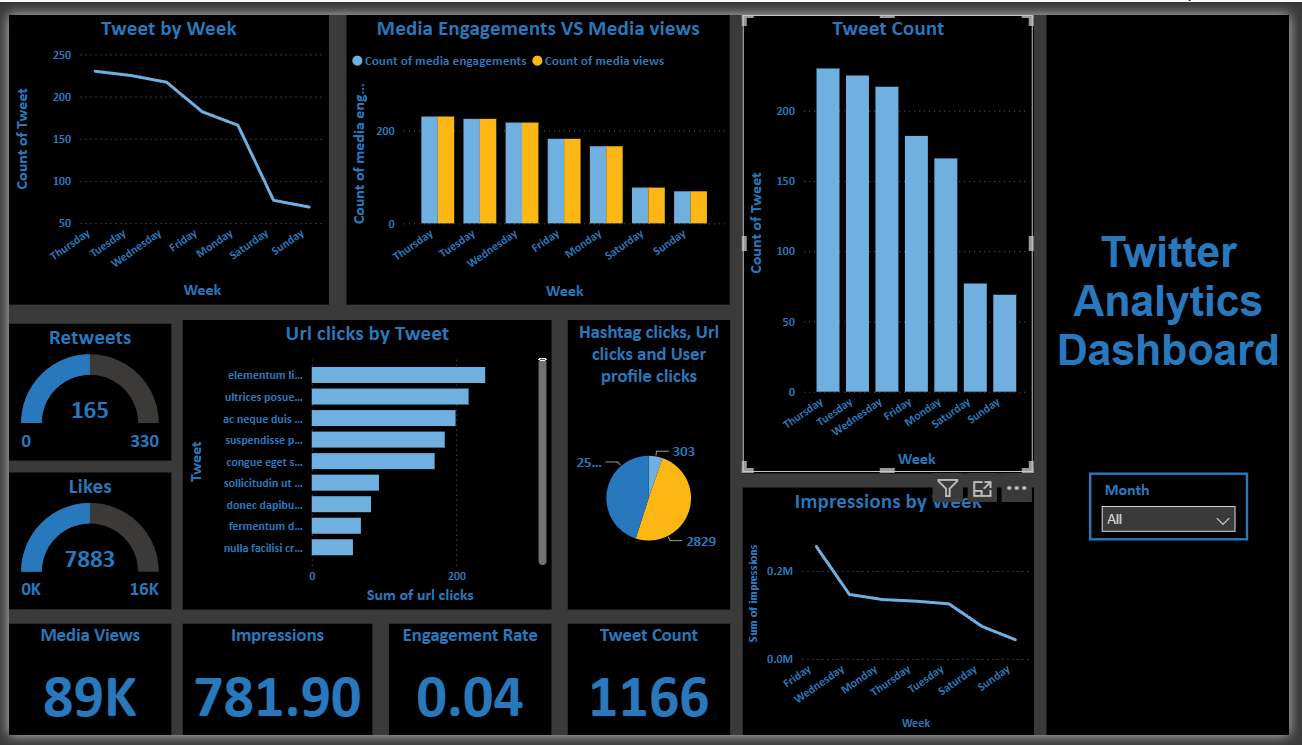

Layout of this report page (visuals, bound fields, positions):
{"tool":"powerbi","page":{"name":"Twitter Analytics Dashbboard","canvas":[1280,720],"ordinal":0},"visuals":[{"type":"textbox","box":[1037.1,0,243.4,720.5],"z":0},{"type":"card","title":"Media Views","fields":{"Values":["Sum(SocialMedia (1).media views)"]},"box":[0,609.2,162.2,111.3],"z":1000},{"type":"card","title":"Impressions","fields":{"Values":["Avg(SocialMedia (1).impressions)"]},"box":[173.4,609.2,189.3,111.3],"z":2000},{"type":"card","title":"Engagement Rate","fields":{"Values":["Avg(SocialMedia (1).engagement rate)"]},"box":[380.2,609.2,162.2,111.3],"z":3000},{"type":"card","title":"Tweet Count","fields":{"Values":["CountNonNull(SocialMedia (1).Tweet)"]},"box":[558.3,609.2,162.2,111.3],"z":4000},{"type":"gauge","title":"Likes","fields":{"Y":["Sum(SocialMedia (1).likes)"]},"box":[0,458.1,162.2,136.8],"z":5000},{"type":"gauge","title":"Retweets","fields":{"Y":["Max(SocialMedia (1).retweets)"]},"box":[0,308.6,162.2,136.8],"z":6000},{"type":"slicer","fields":{"Values":["SocialMedia (1).Month"]},"box":[1080,458.1,159.1,68.4],"z":7000},{"type":"lineChart","title":"Tweet by Week","fields":{"Category":["SocialMedia (1).Week"],"Y":["Count(SocialMedia (1).Tweet)"]},"box":[0,0,319.7,289.5],"z":8000},{"type":"lineChart","title":"Impressions by Week","fields":{"Category":["SocialMedia (1).Week"],"Y":["Sum(SocialMedia (1).impressions)"]},"box":[733.3,472.4,291.1,248.1],"z":9000},{"type":"clusteredBarChart","title":"Url clicks by Tweet","fields":{"Category":["SocialMedia (1).Tweet"],"Y":["Sum(SocialMedia (1).url clicks)"]},"box":[173.4,305.4,369,289.5],"z":10000},{"type":"pieChart","title":"Hashtag clicks, Url clicks and User profile clicks","fields":{"Y":["Sum(SocialMedia (1).hashtag clicks)","Sum(SocialMedia (1).url clicks)","Sum(SocialMedia (1).user profile clicks)"]},"box":[558.3,305.4,162.2,289.5],"z":11000},{"type":"clusteredColumnChart","title":"Media Engagements VS Media views","fields":{"Category":["SocialMedia (1).Week"],"Y":["CountNonNull(SocialMedia (1).media engagements)","CountNonNull(SocialMedia (1).media views)"]},"box":[337.2,0,383.3,289.5],"z":12000},{"type":"clusteredColumnChart","title":"Tweet Count","fields":{"Category":["SocialMedia (1).Week"],"Y":["CountNonNull(SocialMedia (1).Tweet)"]},"box":[733.3,0,291.1,458.1],"z":13000}]}

Visuals, with their boxes in screenshot pixels (x1, y1, x2, y2), scaled from the page's 1280x720 canvas onto the 1302x745 screenshot:
textbox: bbox(1055, 0, 1301, 744)
"Media Views" card: bbox(0, 630, 165, 744)
"Impressions" card: bbox(176, 630, 369, 744)
"Engagement Rate" card: bbox(387, 630, 552, 744)
"Tweet Count" card: bbox(568, 630, 733, 744)
"Likes" gauge: bbox(0, 474, 165, 616)
"Retweets" gauge: bbox(0, 319, 165, 461)
slicer - SocialMedia (1).Month: bbox(1099, 474, 1260, 545)
"Tweet by Week" lineChart: bbox(0, 0, 325, 300)
"Impressions by Week" lineChart: bbox(746, 489, 1042, 744)
"Url clicks by Tweet" clusteredBarChart: bbox(176, 316, 552, 616)
"Hashtag clicks, Url clicks and User profile clicks" pieChart: bbox(568, 316, 733, 616)
"Media Engagements VS Media views" clusteredColumnChart: bbox(343, 0, 733, 300)
"Tweet Count" clusteredColumnChart: bbox(746, 0, 1042, 474)
